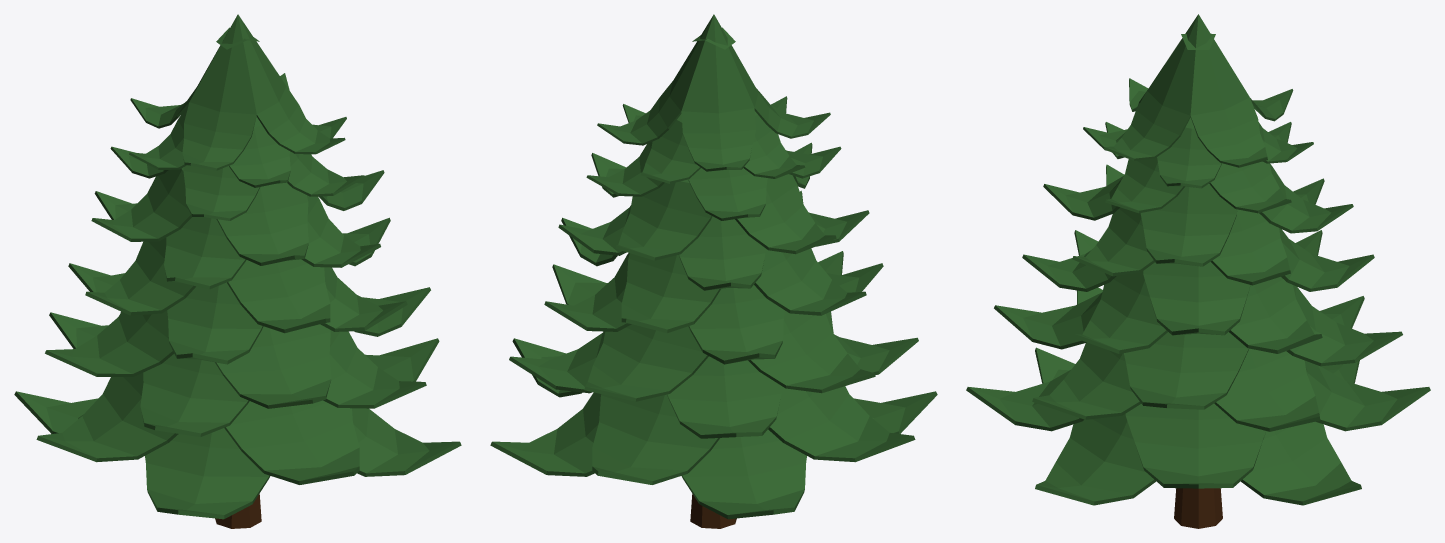
The model's file is PineTree.obj.
3 views of the same model, side by side, from view 1: azimuth 30°, elevation 25°; view 2: azimuth 150°, elevation 25°; view 3: azimuth 270°, elevation 25° (orthographic).
Parts seen in each view (by area): view 1: PineTree_Cylinder.003; view 2: PineTree_Cylinder.003; view 3: PineTree_Cylinder.003.
Boxes of the visible parts, <box> form: PineTree_Cylinder.003: <box>14,14,461,528</box>; PineTree_Cylinder.003: <box>490,14,937,528</box>; PineTree_Cylinder.003: <box>966,14,1430,528</box>.
Size of the model in its own units: 5.79 by 6.93 by 5.79.
